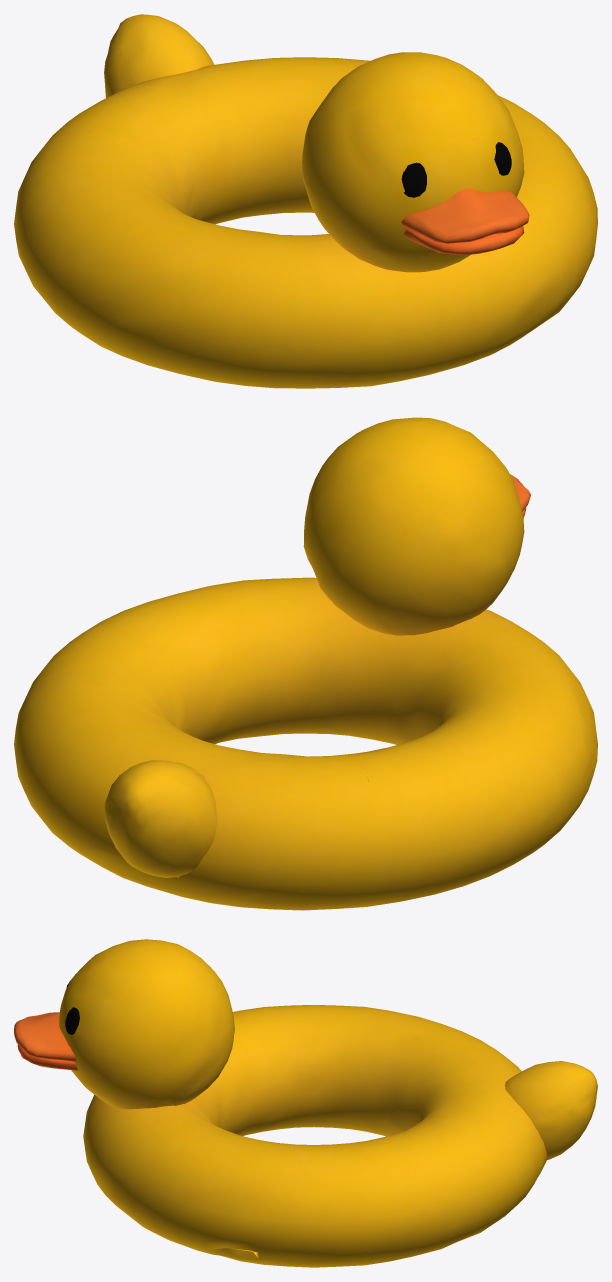
The model's file is pool_duck.glb.
The picture shows the model from 3 angles, top to bottom: view 1: azimuth 30°, elevation 25°; view 2: azimuth 150°, elevation 25°; view 3: azimuth 270°, elevation 25°; orthographic projection. The views are drawn at different scales.
Visible parts, largest first — view 1: geometry_0; view 2: geometry_0; view 3: geometry_0.
Boxes of the visible parts, x1=… form: geometry_0: x1=14, y1=14, x2=597, y2=388; geometry_0: x1=14, y1=417, x2=597, y2=910; geometry_0: x1=14, y1=939, x2=597, y2=1267.
Bounding box in the file's own units: 0.7603 × 0.4424 × 0.9551.
Materials: 1 (1 with a texture image).
